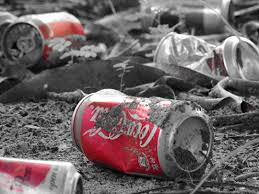Coca-Cola: (88, 89, 164, 176), (72, 98, 168, 150), (106, 108, 166, 172), (81, 105, 167, 144), (106, 105, 165, 153), (84, 93, 135, 143)
